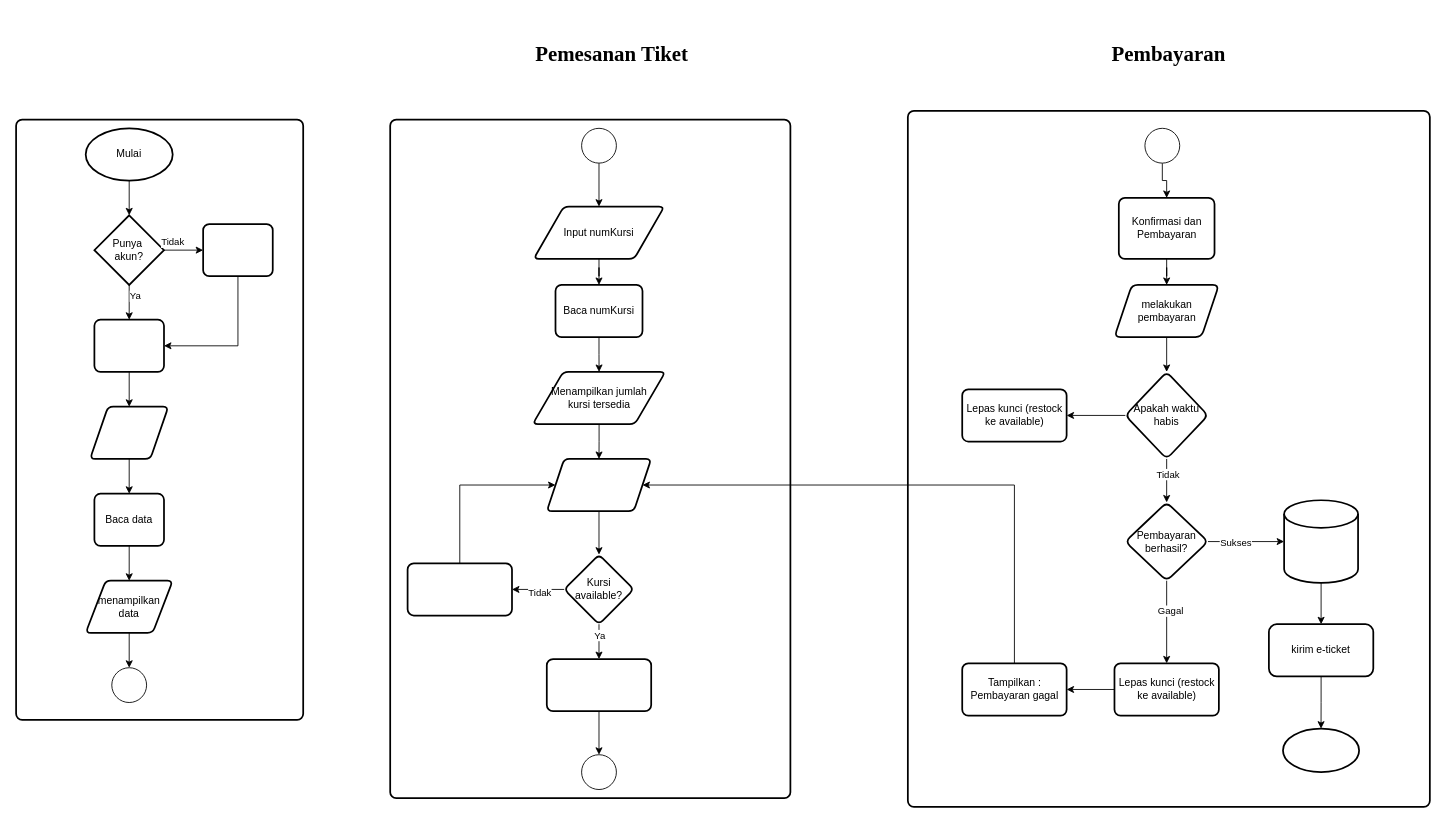
Image size: 1445x822. Some labels were removed from this diagram. Here are the shapes that lost their labels. From the top down, the centre of each, then its label:
(237,250): Daftar akun
(128,345): Masuk
(129,432): pilih lokasi, film, jadwal
(598,485): Pilih kursi
(1321,541): update db status terjual
(459,589): Menampilkan : Kursi Penuh / sedang dipesan orang lain
(598,685): Kunci kursi sementara (10 menit)
(1321,750): Selesai
